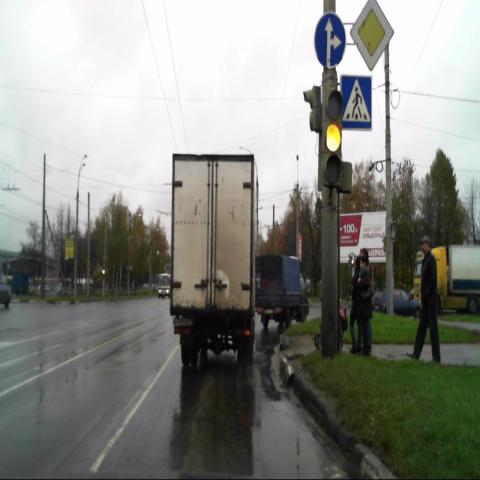4_1_4: (314, 13, 345, 71)
